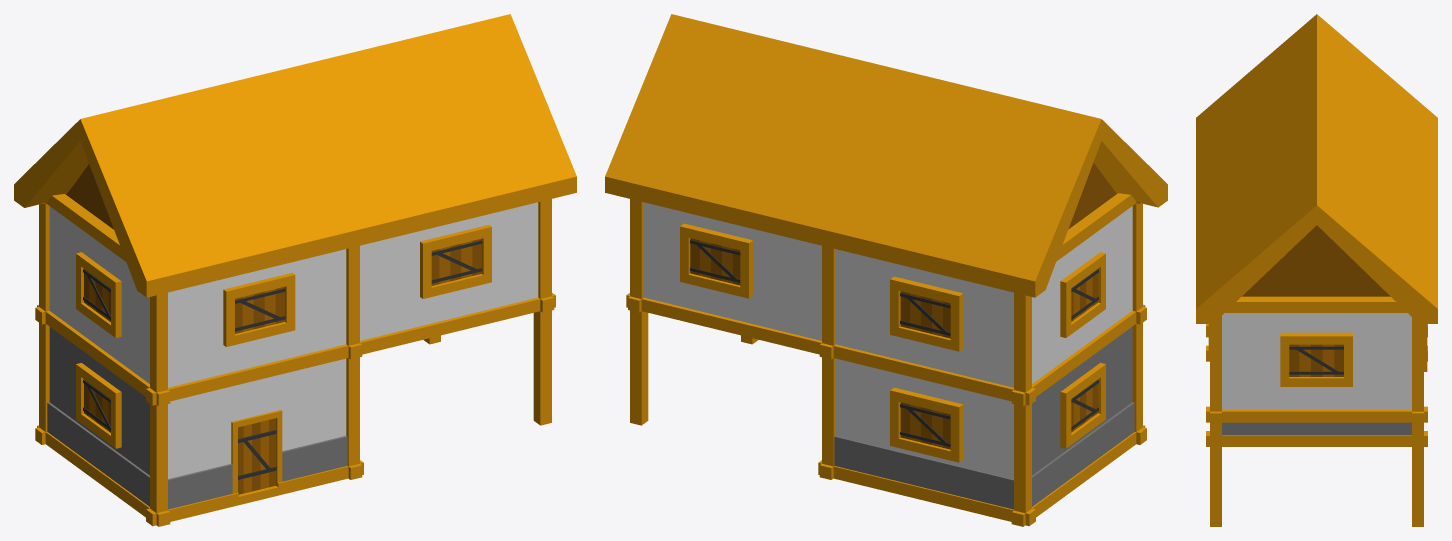
The model's file is house1.fbx.
The picture shows the model from 3 angles, left to right: view 1: azimuth 30°, elevation 25°; view 2: azimuth 150°, elevation 25°; view 3: azimuth 270°, elevation 25°; orthographic projection. The views are drawn at different scales.
Visible parts, largest first — view 1: Würfel.039, Würfel.019, Würfel.026, Würfel.004, Würfel.016, Würfel.007, Würfel.049, Würfel.089, Würfel.078, Würfel.046, Würfel.008, Würfel.035 (+17 smaller); view 2: Würfel.039, Würfel.018, Würfel.027, Würfel.005, Würfel.016, Würfel.048, Würfel.007, Würfel.069, Würfel.062, Würfel.070, Würfel.046, Würfel.044 (+16 smaller); view 3: Würfel.039, Würfel.028, Würfel.038, Würfel.077, Würfel.031, Würfel.047, Würfel.033, Würfel.010, Würfel.091, Würfel.090, Würfel.024, Würfel.025.
Boxes of the visible parts, <box> form: Würfel.039: <box>14,14,576,297</box>; Würfel.019: <box>168,249,346,387</box>; Würfel.026: <box>360,202,538,340</box>; Würfel.004: <box>168,358,346,478</box>; Würfel.016: <box>49,206,149,383</box>; Würfel.007: <box>49,327,149,475</box>; Würfel.049: <box>168,436,347,509</box>; Würfel.089: <box>223,272,295,346</box>; Würfel.078: <box>420,225,491,298</box>; Würfel.046: <box>47,402,149,506</box>; Würfel.008: <box>146,340,363,405</box>; Würfel.035: <box>362,293,555,353</box>; Würfel.039: <box>605,14,1167,297</box>; Würfel.018: <box>835,249,1013,387</box>; Würfel.027: <box>643,202,821,340</box>; Würfel.005: <box>835,358,1013,478</box>; Würfel.016: <box>1032,206,1132,383</box>; Würfel.048: <box>834,436,1013,509</box>; Würfel.007: <box>1032,326,1132,475</box>; Würfel.069: <box>890,387,963,462</box>; Würfel.062: <box>890,276,963,351</box>; Würfel.070: <box>680,223,752,298</box>; Würfel.046: <box>1032,402,1134,506</box>; Würfel.044: <box>818,340,1035,405</box>; Würfel.039: <box>1196,14,1437,323</box>; Würfel.028: <box>1222,313,1411,409</box>; Würfel.038: <box>1242,225,1390,296</box>; Würfel.077: <box>1280,332,1352,386</box>; Würfel.031: <box>1225,296,1407,312</box>; Würfel.047: <box>1222,422,1411,435</box>; Würfel.033: <box>1206,406,1427,422</box>; Würfel.010: <box>1206,431,1427,446</box>; Würfel.091: <box>1210,424,1221,526</box>; Würfel.090: <box>1412,424,1423,526</box>; Würfel.024: <box>1210,316,1221,411</box>; Würfel.025: <box>1412,317,1423,411</box>.
Bounding box in the file's own units: 2241 × 1830 × 1198.
